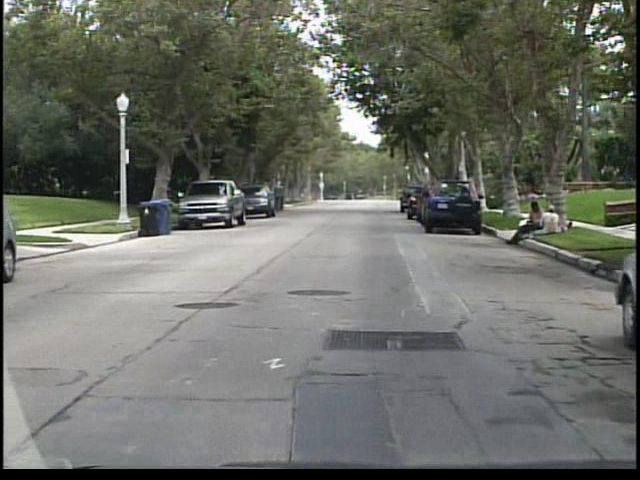person: (509, 200, 547, 247), (537, 205, 562, 234)
